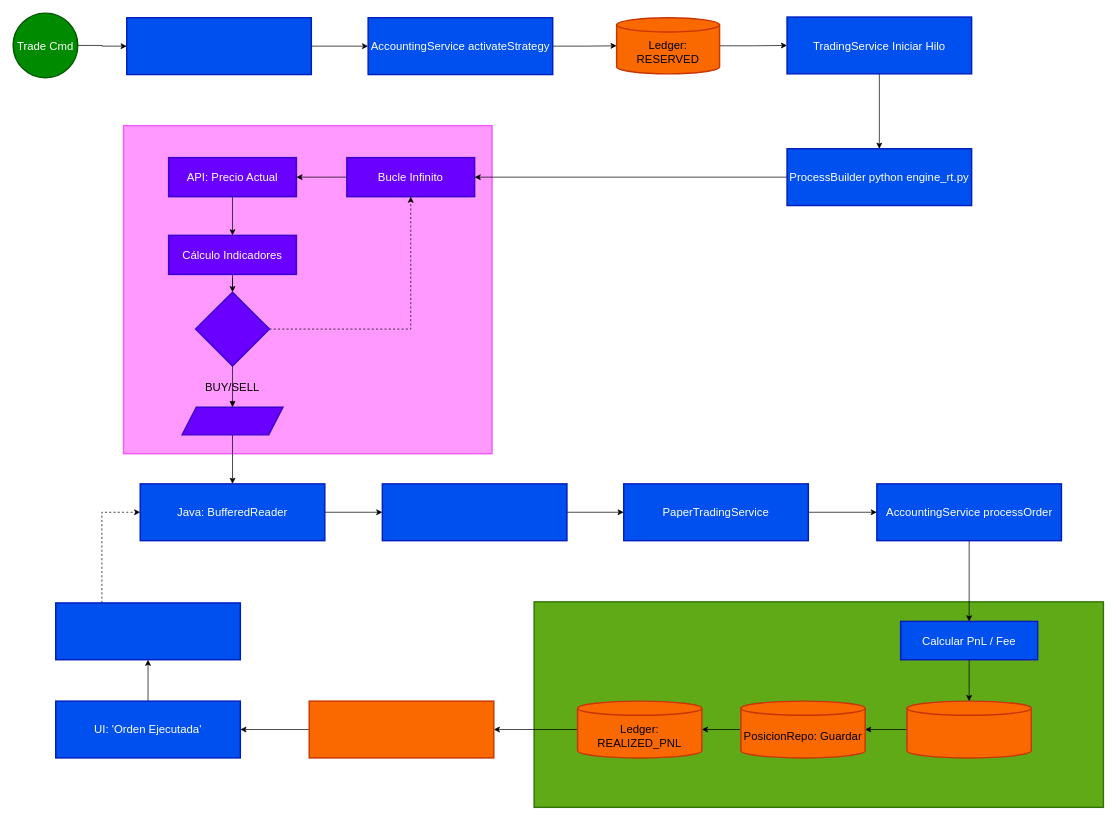
Image size: 1116x820. Some labels were removed from this diagram. The box of each missing label's shape, as (x1, y1, x2, y2) in pixels:
Esperar siguiente: (55, 602, 241, 660)
EstrategiaService Crear Instancia: (126, 17, 312, 75)
FileService Guardar CSV: (308, 700, 494, 758)
Gson: SignalDTO: (381, 483, 567, 541)
JSON Stdout: (181, 406, 283, 435)
Wallet: Update Balance: (906, 700, 1032, 758)
¿Señal?: (195, 291, 270, 366)
